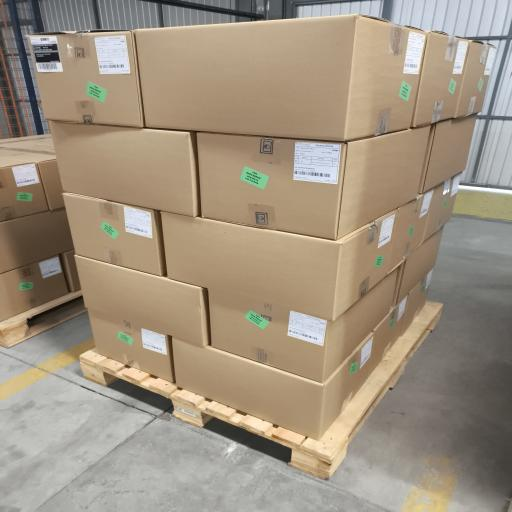pallet: (81, 302, 442, 478), (0, 291, 87, 347)
